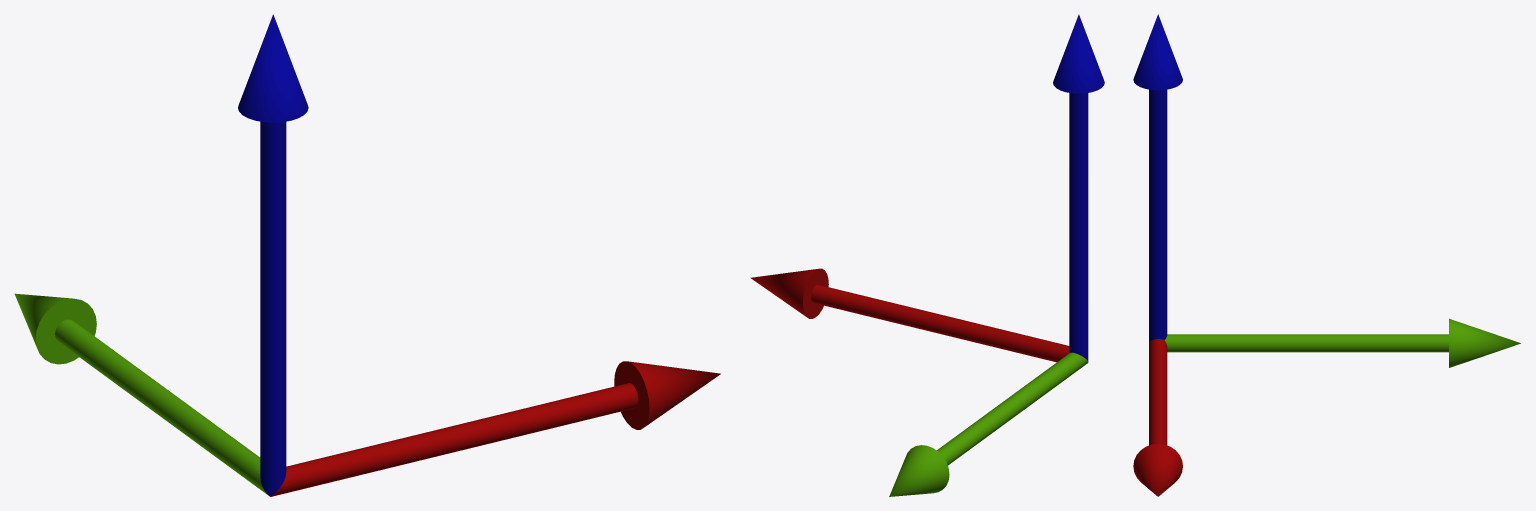
File: Transform.fbx
3 renders of one model, left to right at view 1: azimuth 30°, elevation 25°; view 2: azimuth 150°, elevation 25°; view 3: azimuth 270°, elevation 25°, orthographic. The views are drawn at different scales.
Parts seen in each view (by area): view 1: Model; view 2: Model; view 3: Model.
Part boxes in pixels (x1=…): Model: x1=14, y1=14, x2=720, y2=496; Model: x1=750, y1=14, x2=1104, y2=496; Model: x1=1133, y1=14, x2=1520, y2=496.
Bounding box in the file's own units: 326 × 326 × 326.
